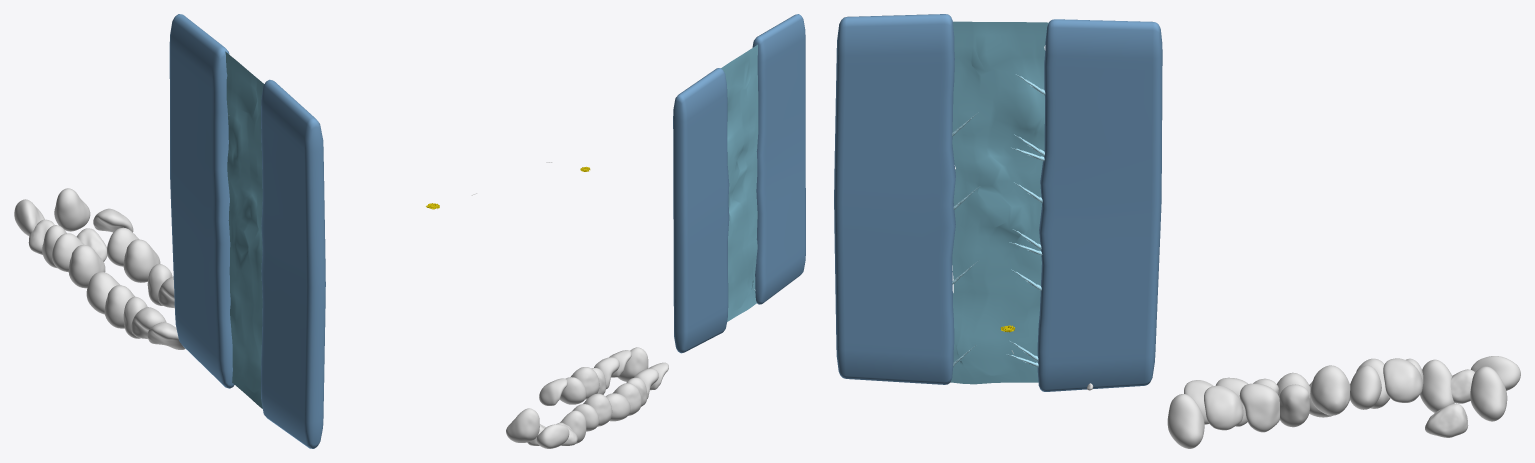
The picture shows the model from 3 angles, left to right: view 1: azimuth 30°, elevation 25°; view 2: azimuth 150°, elevation 25°; view 3: azimuth 270°, elevation 25°; orthographic projection. The views are drawn at different scales.
Visible parts, largest first — view 1: wall1, wall2, icefall, rock.019, rock.017, rock.012, rock.004, rock.007, rock.018, rock.015, rock.011, rock.002 (+7 smaller); view 2: wall2, wall1, icefall, rock.019, rock.011, rock.008, rock.018, rock.020, rock.012, rock.017, rock.007, rock.016 (+5 smaller); view 3: wall2, wall1, icefall, rock.008, rock.019, rock.017, rock.010, rock.020, rock.013, rock.016, rock.014, rock.018 (+2 smaller).
Boxes of the visible parts, <box> form: wall1: <box>261,79,325,448</box>; wall2: <box>169,14,234,388</box>; icefall: <box>225,51,264,408</box>; rock.019: <box>54,188,90,231</box>; rock.017: <box>123,239,160,282</box>; rock.012: <box>68,245,105,288</box>; rock.004: <box>104,285,134,328</box>; rock.007: <box>86,272,120,314</box>; rock.018: <box>107,227,138,266</box>; rock.015: <box>52,233,84,272</box>; rock.011: <box>14,199,44,235</box>; rock.002: <box>131,307,166,338</box>; wall2: <box>673,68,729,353</box>; wall1: <box>752,14,805,304</box>; icefall: <box>721,44,758,321</box>; rock.019: <box>506,408,539,442</box>; rock.011: <box>536,424,569,448</box>; rock.008: <box>618,347,648,381</box>; rock.018: <box>560,377,586,404</box>; rock.020: <box>539,378,567,405</box>; rock.012: <box>583,393,612,426</box>; rock.017: <box>570,367,599,399</box>; rock.007: <box>605,393,630,421</box>; rock.016: <box>560,410,586,443</box>; wall2: <box>1037,19,1162,391</box>; wall1: <box>834,14,955,384</box>; icefall: <box>950,21,1048,384</box>; rock.008: <box>1167,394,1204,448</box>; rock.019: <box>1470,366,1507,421</box>; rock.017: <box>1310,365,1350,415</box>; rock.010: <box>1239,383,1279,432</box>; rock.020: <box>1383,358,1422,402</box>; rock.013: <box>1204,385,1243,430</box>; rock.016: <box>1420,359,1454,412</box>; rock.014: <box>1279,384,1309,427</box>; rock.018: <box>1350,365,1381,409</box>.
Bounding box in the file's own units: 2661 × 3748 × 5792.
